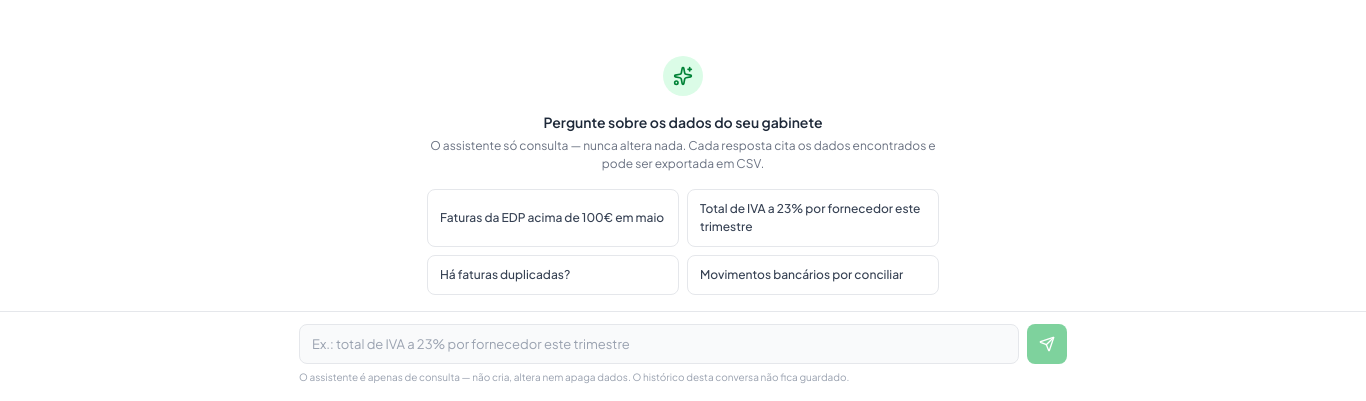
Scenario: AssistantChat › resposta com resultados renderiza tabela com montantes pt-PT e exportação CSV
Type "faturas da EDP" into the field named "Pergunta ao assistente" at (659, 344), box x1=299 y1=324 x2=1019 y2=364
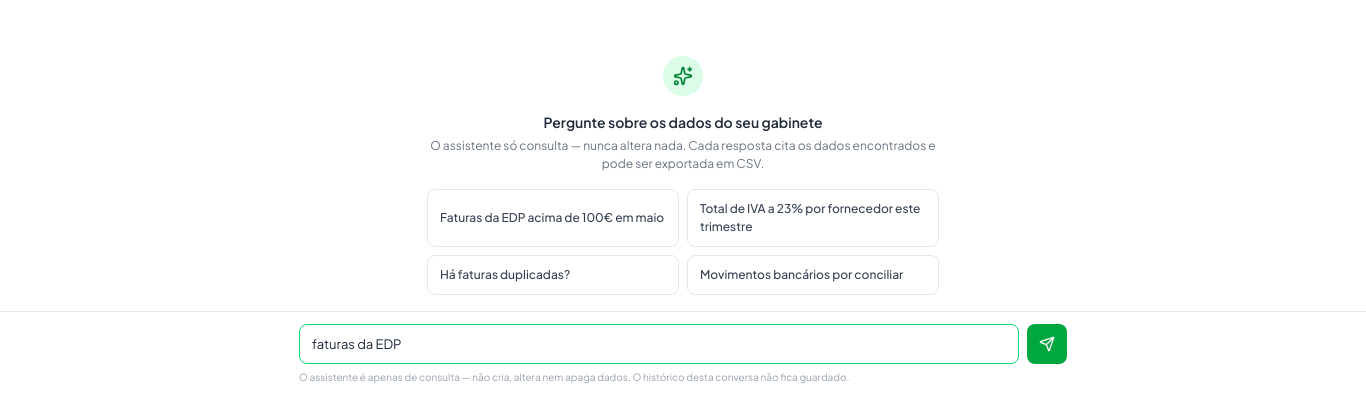
Click the button named "Enviar pergunta" at (1047, 344), box x1=1027 y1=324 x2=1067 y2=364
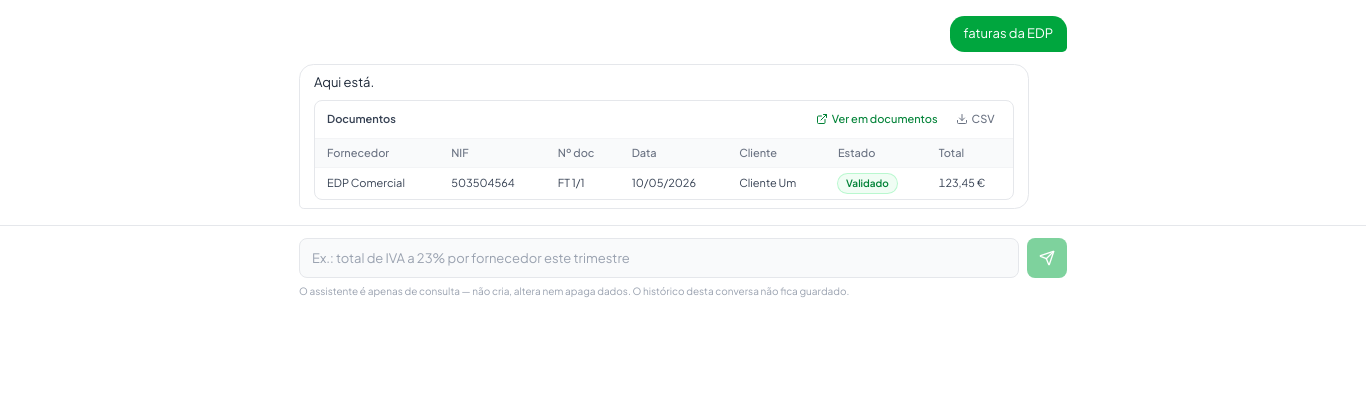
Now the text "EDP Comercial" is shown, box x1=315 y1=168 x2=439 y2=199
Now the text "123,45 €" is shown, box x1=939 y1=176 x2=985 y2=189
Now the text "10/05/2026" is shown, box x1=620 y1=168 x2=727 y2=199
